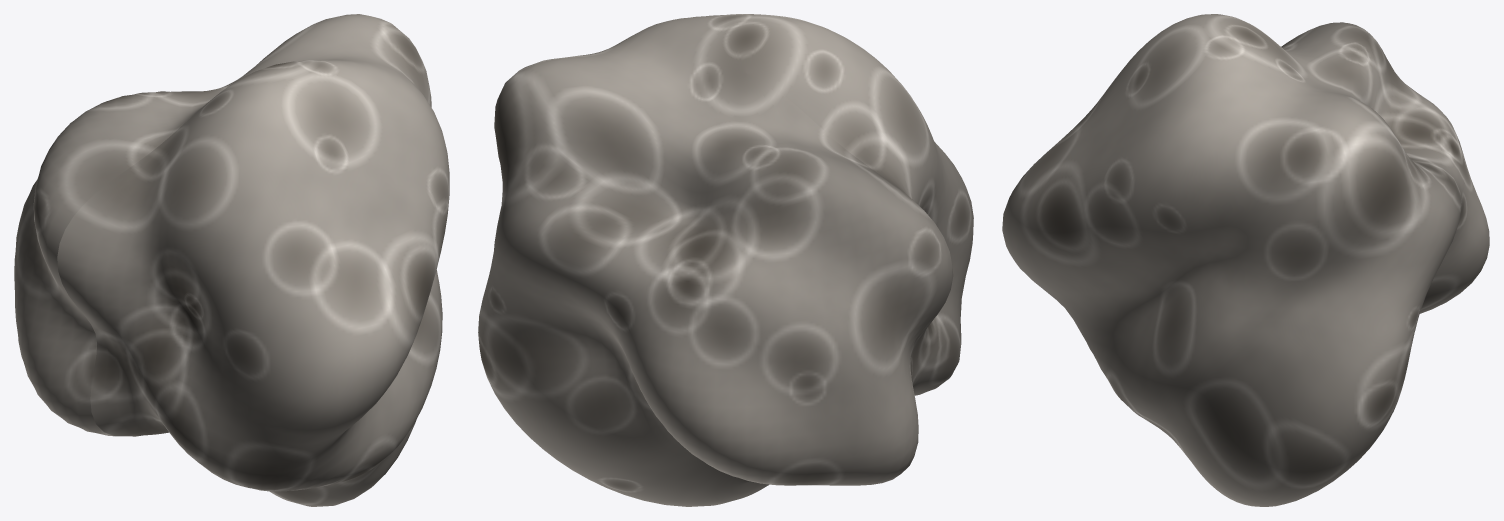
The model's file is asteroide.glb.
3 views of the same model, side by side, from view 1: azimuth 30°, elevation 25°; view 2: azimuth 150°, elevation 25°; view 3: azimuth 270°, elevation 25° (orthographic). The views are drawn at different scales.
Parts seen in each view (by area): view 1: asteroide; view 2: asteroide; view 3: asteroide.
Part boxes in pixels (left/top/right/bottom): asteroide: left=14, top=14, right=449, bottom=506; asteroide: left=478, top=14, right=973, bottom=506; asteroide: left=1002, top=14, right=1489, bottom=506.
Size of the model in its own units: 1.82 by 1.97 by 1.98.
1 material, 1 textured.
